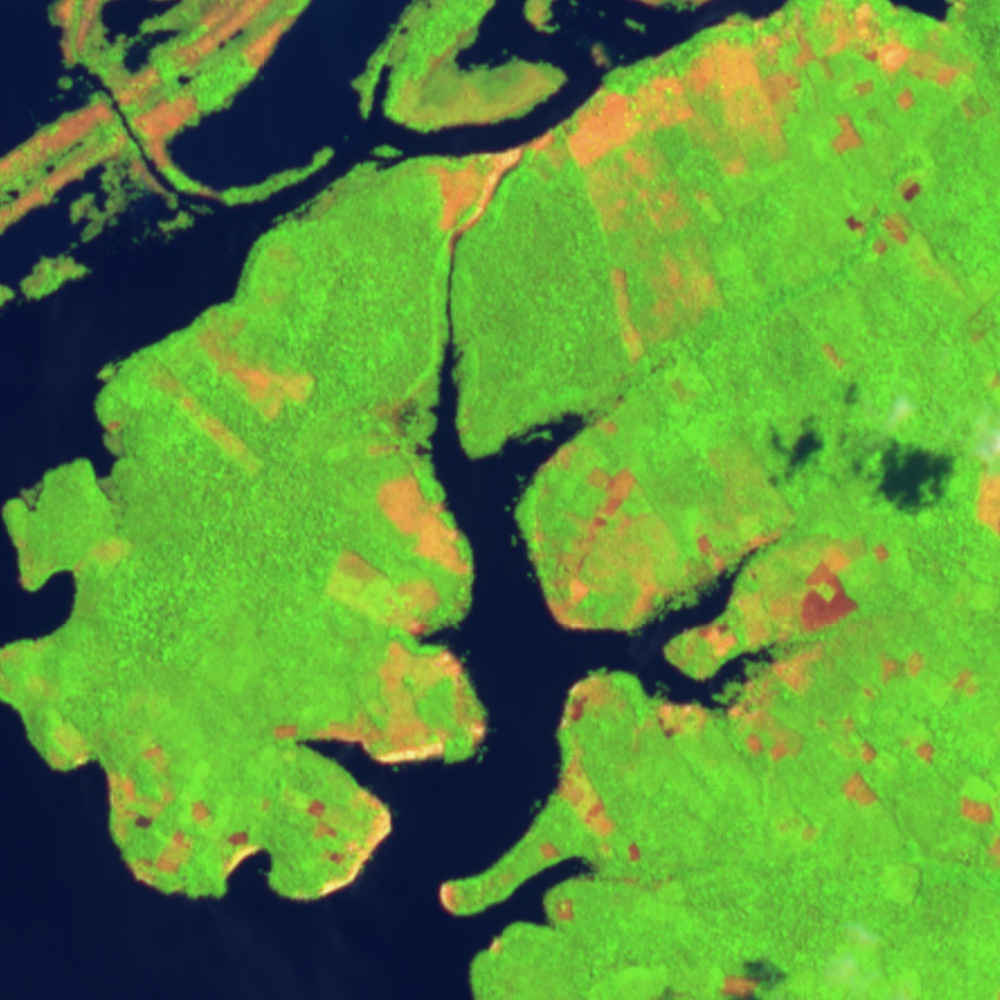legal: (1, 1, 315, 256), (565, 1, 965, 177), (652, 529, 891, 720), (314, 636, 489, 767), (539, 460, 642, 630), (105, 742, 207, 895), (434, 129, 557, 245), (538, 739, 644, 863), (326, 545, 447, 641), (374, 467, 476, 575), (161, 374, 263, 476), (300, 789, 396, 897), (198, 328, 314, 417), (844, 174, 924, 258), (359, 386, 439, 459), (551, 664, 628, 738), (611, 262, 650, 363), (647, 694, 709, 744), (842, 738, 884, 809), (221, 824, 267, 879), (971, 461, 1000, 536), (877, 649, 929, 683), (959, 796, 998, 827), (104, 416, 128, 464), (720, 975, 764, 1000), (437, 876, 463, 918), (954, 671, 980, 698), (917, 740, 935, 763)
